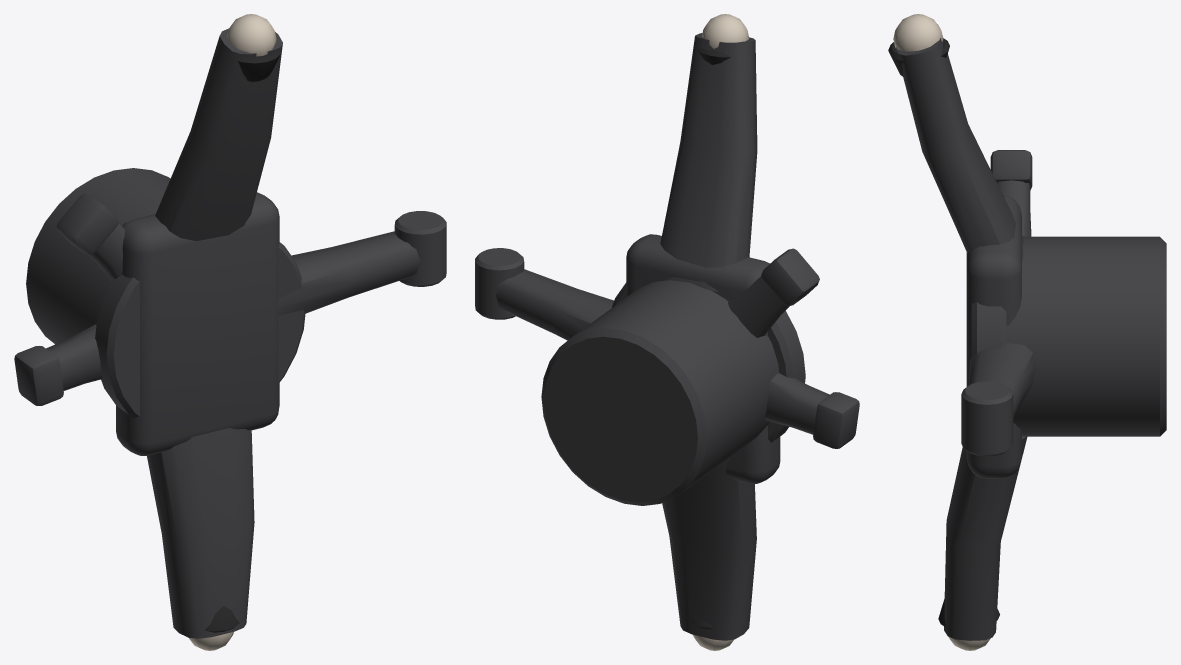
File: SM_Susp_RL_Upright.fbx
3 renders of one model, left to right at view 1: azimuth 30°, elevation 25°; view 2: azimuth 150°, elevation 25°; view 3: azimuth 270°, elevation 25°, orthographic. The views are drawn at different scales.
Parts seen in each view (by area): view 1: Export_Susp_RL_Upright; view 2: Export_Susp_RL_Upright; view 3: Export_Susp_RL_Upright.
Boxes of the visible parts, x1,y1,x2,y2 form: Export_Susp_RL_Upright: (14, 14, 446, 650); Export_Susp_RL_Upright: (475, 14, 859, 650); Export_Susp_RL_Upright: (888, 14, 1166, 650).
Size of the model in its own units: 0.1615 by 0.2703 by 0.409.
